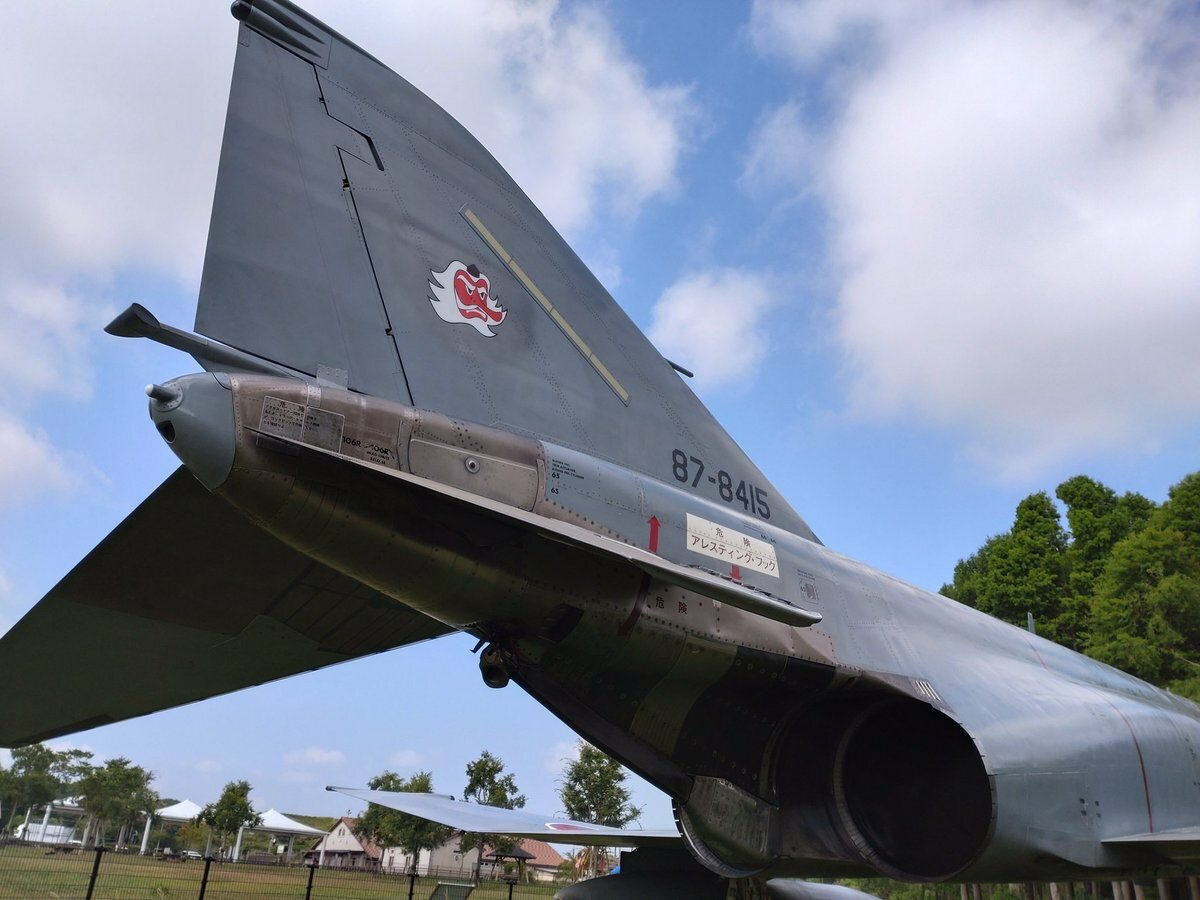F4: (1, 1, 1200, 900)
